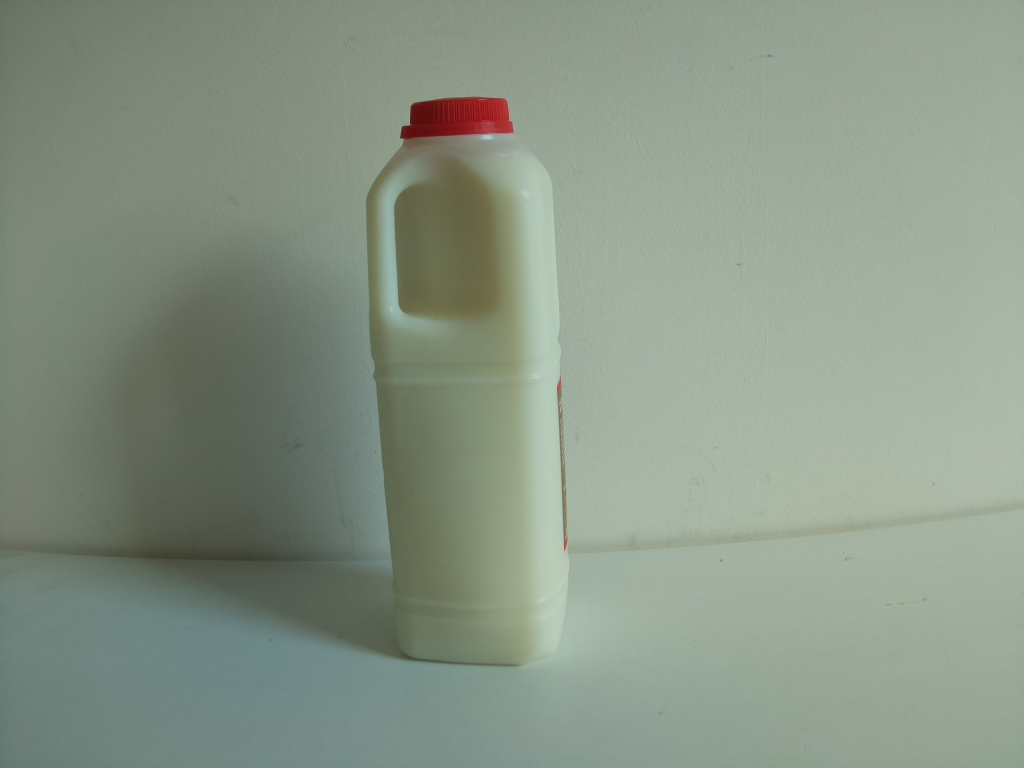milk: (363, 91, 575, 677)
